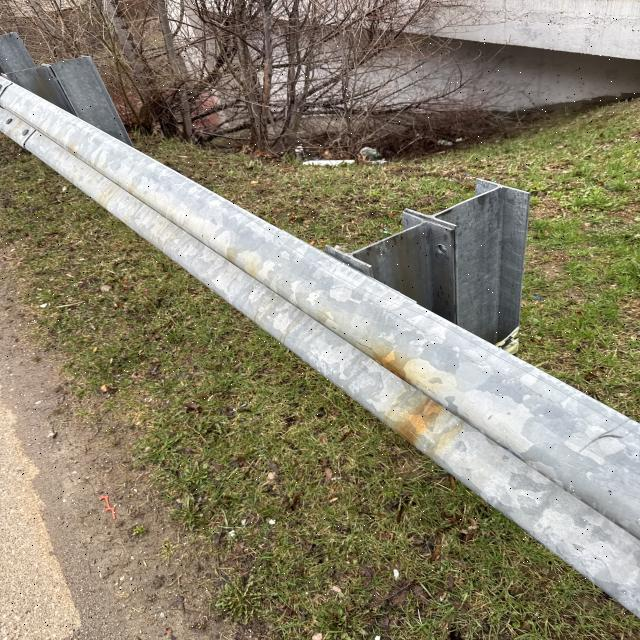Guard rail: (0, 96, 520, 338)
